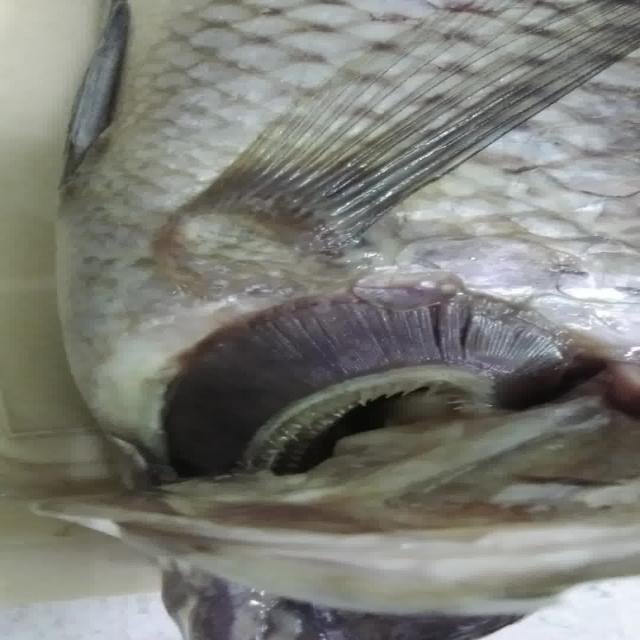Non-Fresh: (146, 286, 583, 482)
